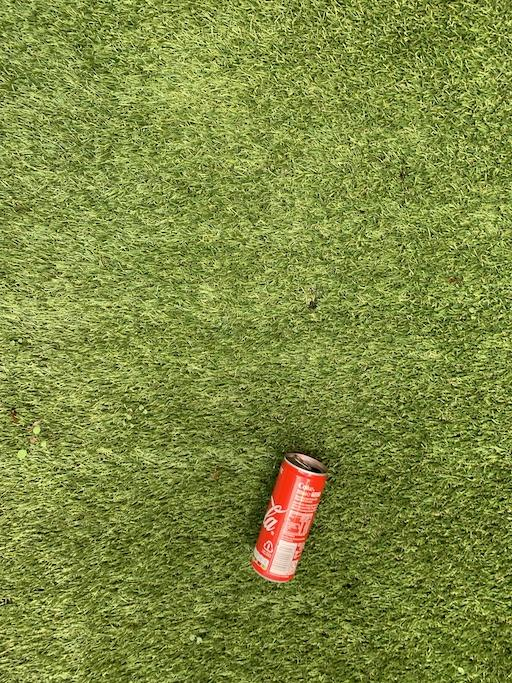Aluminum can: (233, 448, 344, 589)
